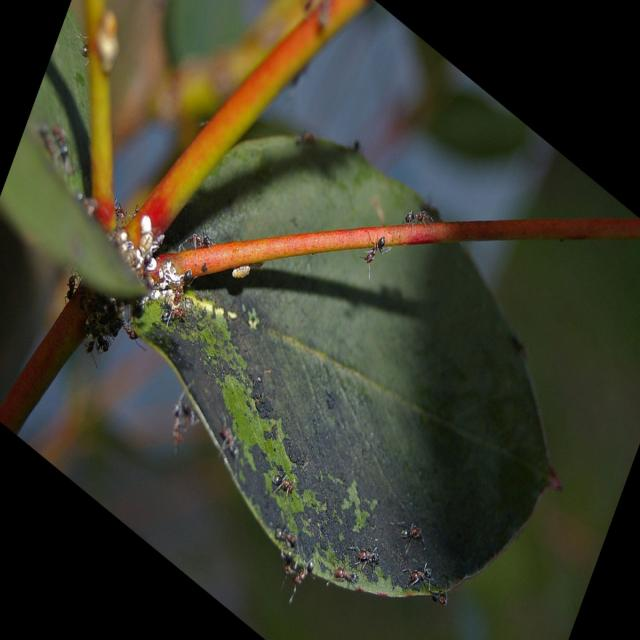Sooty Mold: (101, 181, 528, 621)
